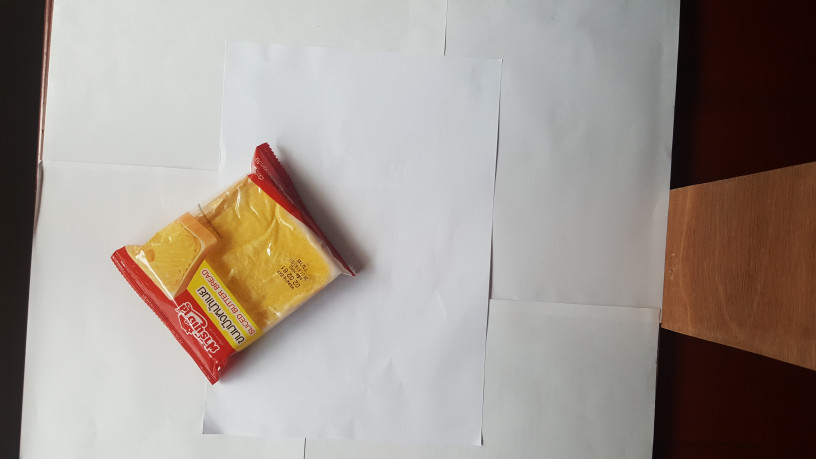farmhouse-bread-butter: (101, 141, 360, 389)
